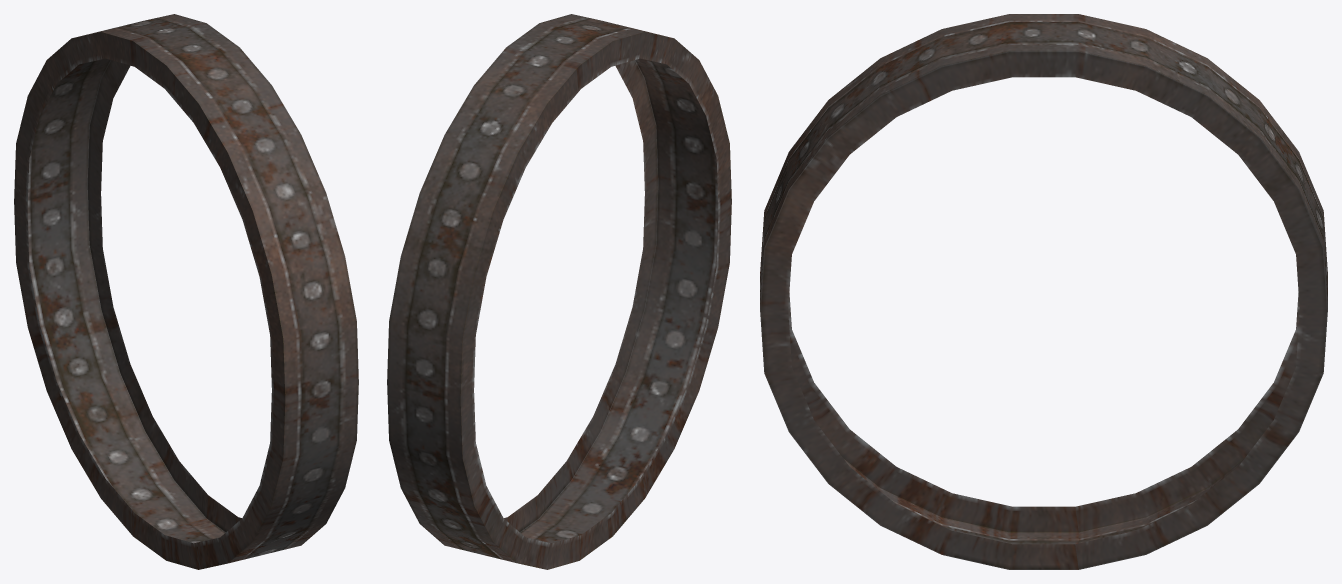
The model's file is pipe_end.fbx.
3 renders of one model, left to right at view 1: azimuth 30°, elevation 25°; view 2: azimuth 150°, elevation 25°; view 3: azimuth 270°, elevation 25°, orthographic. The views are drawn at different scales.
Parts seen in each view (by area): view 1: pipe_end; view 2: pipe_end; view 3: pipe_end.
Part boxes in pixels (x1=…): pipe_end: x1=14, y1=14, x2=358, y2=569; pipe_end: x1=387, y1=14, x2=731, y2=569; pipe_end: x1=760, y1=14, x2=1327, y2=569.
Size of the model in its own units: 19.65 by 126 by 125.
